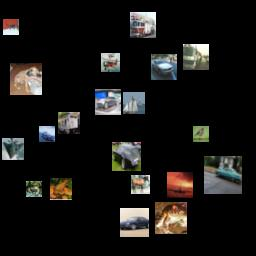airplane: (167, 172, 193, 198), (2, 138, 24, 160), (101, 53, 120, 72)
automobile: (204, 156, 242, 194), (112, 142, 141, 171), (120, 208, 149, 237), (151, 54, 177, 80), (95, 89, 121, 115), (39, 126, 55, 142)
bird: (193, 126, 209, 142)
cat: (3, 19, 19, 35)
dog: (10, 63, 42, 95)
frog: (155, 202, 187, 234), (50, 178, 72, 200), (26, 181, 42, 197)
ship: (123, 92, 145, 114)
truck: (183, 44, 209, 70), (130, 12, 156, 38), (58, 112, 80, 134)
